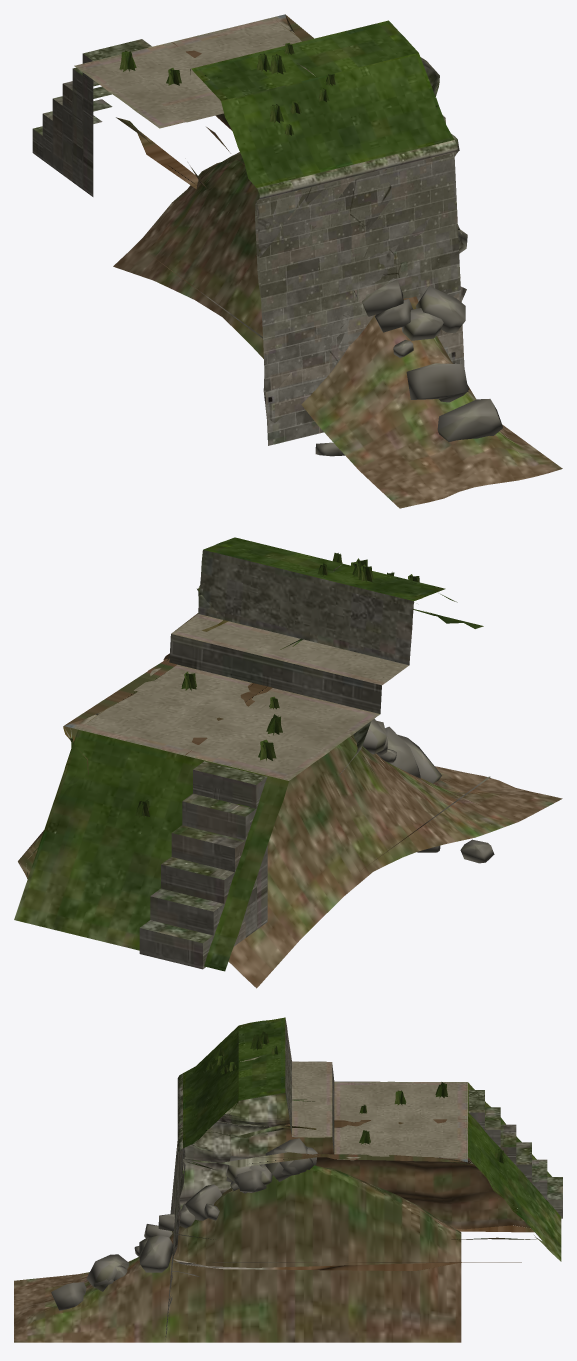
File: starfort_bastion_flank_hero.glb
3 renders of one model, top to bottom at view 1: azimuth 30°, elevation 25°; view 2: azimuth 150°, elevation 25°; view 3: azimuth 270°, elevation 25°, orthographic. The views are drawn at different scales.
Visible parts, largest first — view 1: breached, intact, cracked, stairs; view 2: breached, cracked, intact, stairs; view 3: breached, intact, cracked, stairs, endcap_b.
Part boxes in pixels (bbox=[...]): breached: bbox=[74, 14, 562, 508]; intact: bbox=[89, 17, 464, 440]; cracked: bbox=[88, 20, 459, 456]; stairs: bbox=[32, 39, 151, 196]; breached: bbox=[18, 537, 562, 988]; cracked: bbox=[22, 539, 494, 970]; intact: bbox=[14, 539, 437, 971]; stairs: bbox=[139, 761, 267, 969]; breached: bbox=[14, 1020, 561, 1342]; intact: bbox=[167, 1017, 561, 1320]; cracked: bbox=[165, 1017, 561, 1336]; stairs: bbox=[468, 1090, 562, 1218]; endcap_b: bbox=[173, 1137, 521, 1262].
Size of what is drawn, in the model's own units: 4.58 by 6.49 by 12.34.
2 materials, 2 textured.
